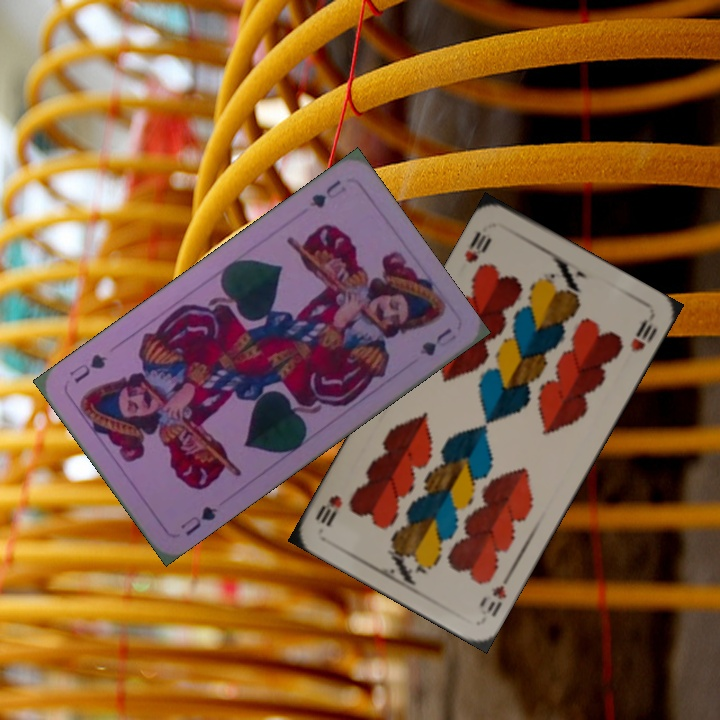GU: (176, 502, 220, 539), (305, 175, 349, 211)
H10: (475, 568, 514, 620), (460, 227, 495, 266)
